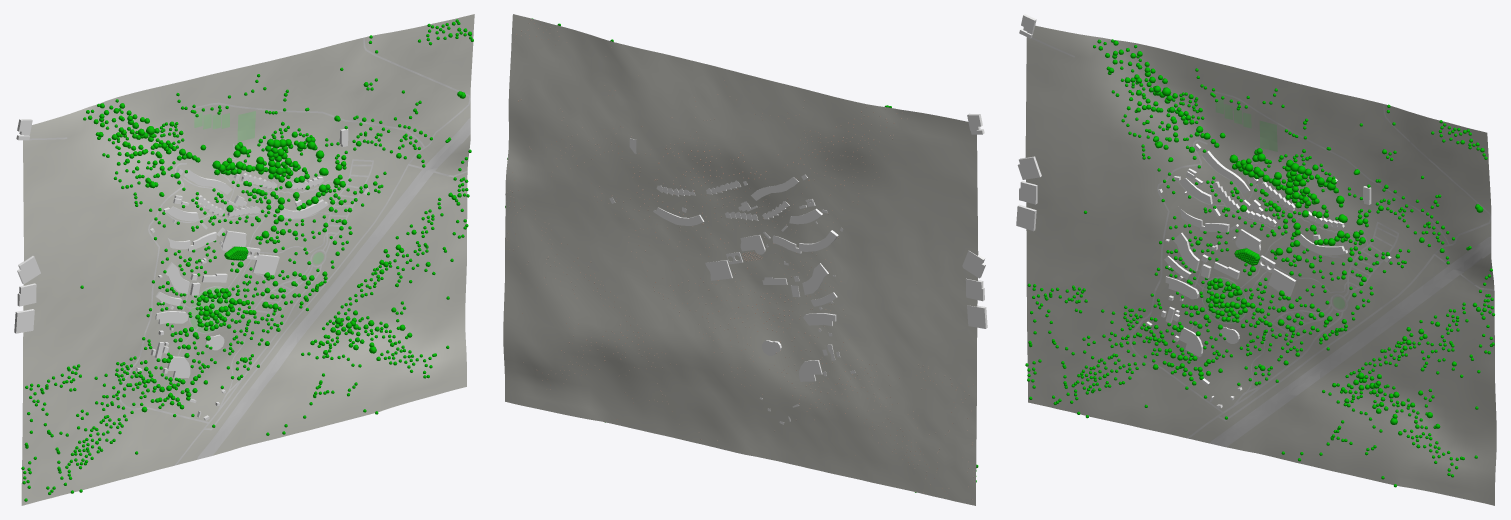
The model's file is topoexport_3D_modeling.glb.
3 renders of one model, left to right at view 1: azimuth 30°, elevation 25°; view 2: azimuth 150°, elevation 25°; view 3: azimuth 330°, elevation 25°, orthographic.
Visible parts, largest first — view 1: TPX_Ground, TPX_RoadsOutlines, TPX_Buildings, TPX_GreenAreas; view 2: TPX_Ground, TPX_Buildings; view 3: TPX_Ground, TPX_RoadsOutlines, TPX_Buildings, TPX_GreenAreas.
Boxes of the visible parts, x1=… form: TPX_Ground: x1=21, y1=14, x2=474, y2=505; TPX_RoadsOutlines: x1=29, y1=37, x2=470, y2=465; TPX_Buildings: x1=14, y1=119, x2=368, y2=420; TPX_GreenAreas: x1=190, y1=111, x2=323, y2=332; TPX_Ground: x1=503, y1=14, x2=978, y2=505; TPX_Buildings: x1=609, y1=113, x2=987, y2=424; TPX_Ground: x1=1025, y1=25, x2=1496, y2=505; TPX_RoadsOutlines: x1=1031, y1=37, x2=1494, y2=447; TPX_Buildings: x1=1016, y1=14, x2=1391, y2=408; TPX_GreenAreas: x1=1202, y1=98, x2=1344, y2=322.
Bounding box in the file's own units: 906 × 722 × 54.13.
